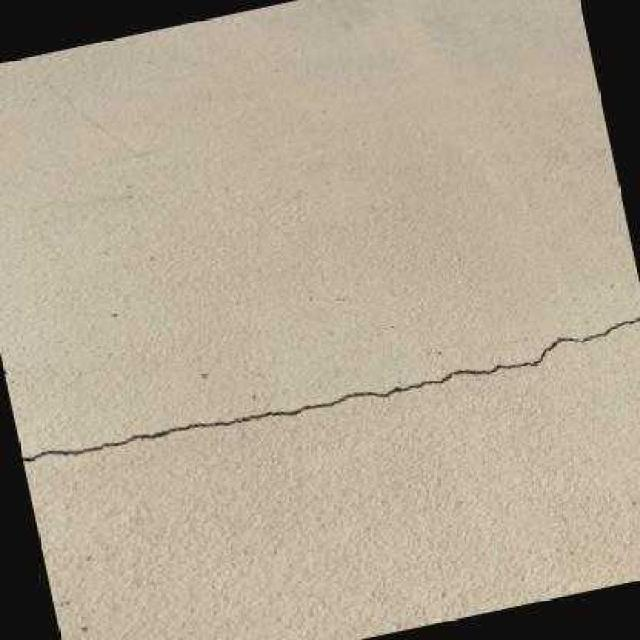D00: (22, 316, 640, 459)
